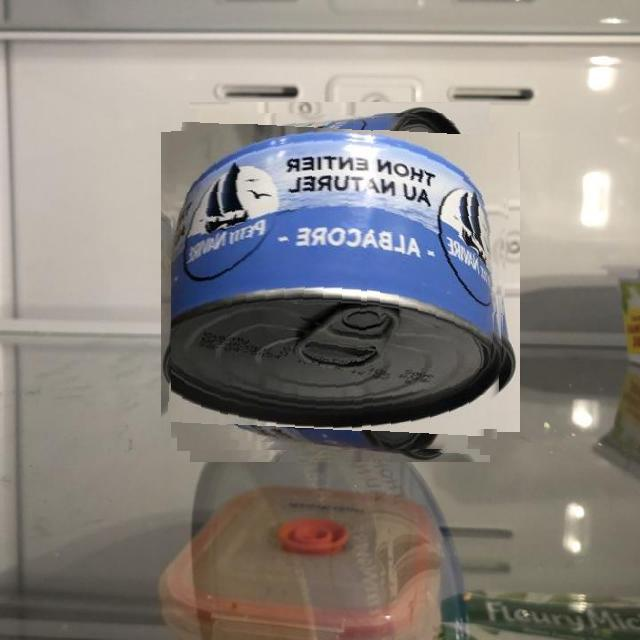recyclable: (172, 114, 509, 452)
